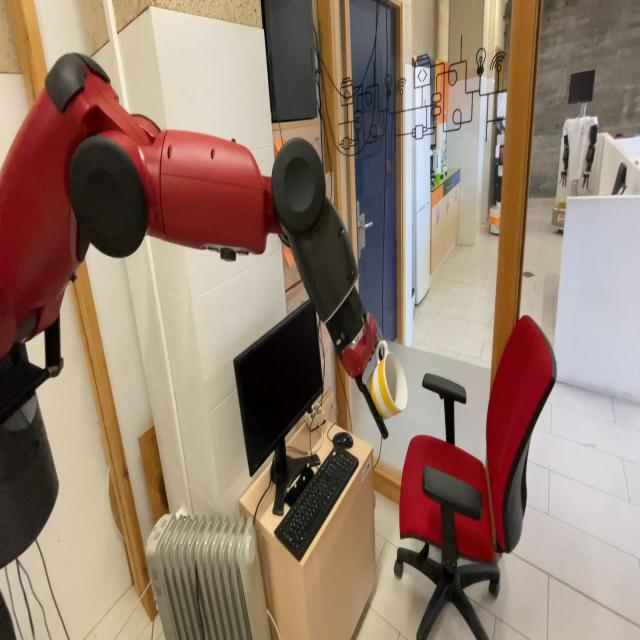cup: (363, 337, 411, 423)
